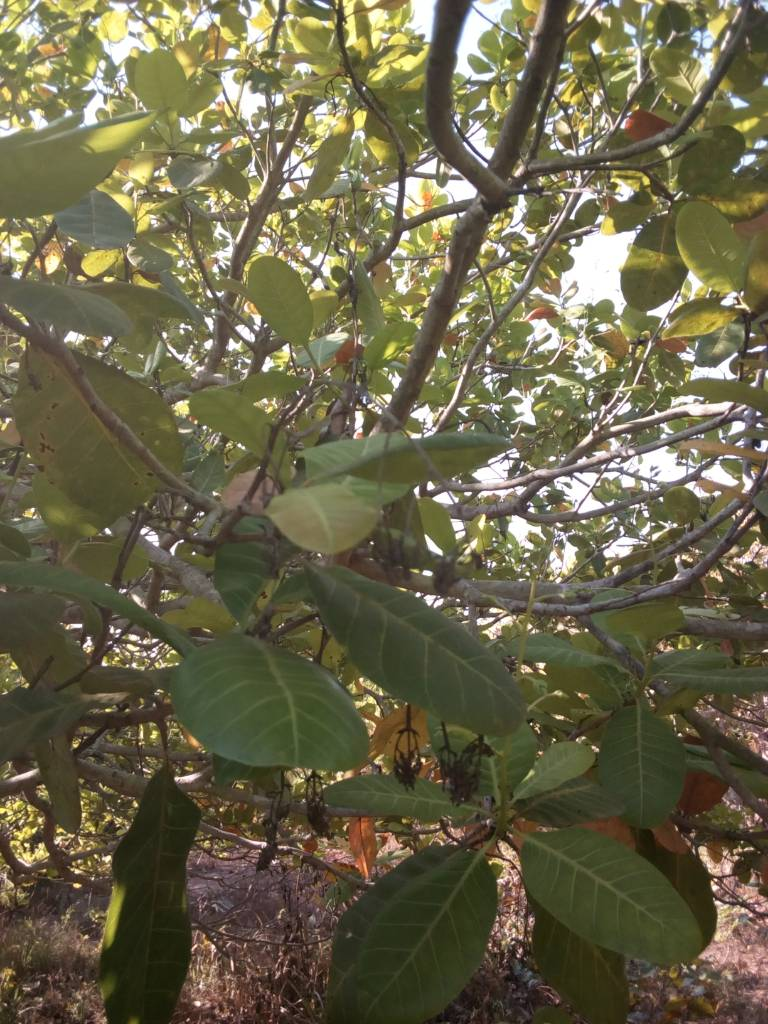Dessèchement des bourgeons: (255, 778, 341, 874), (391, 728, 493, 805)
